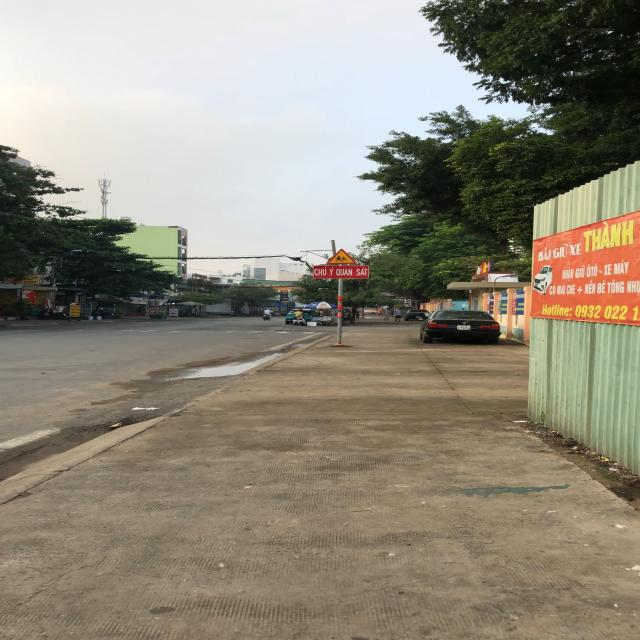Bien bao tre em: (325, 247, 358, 265)
